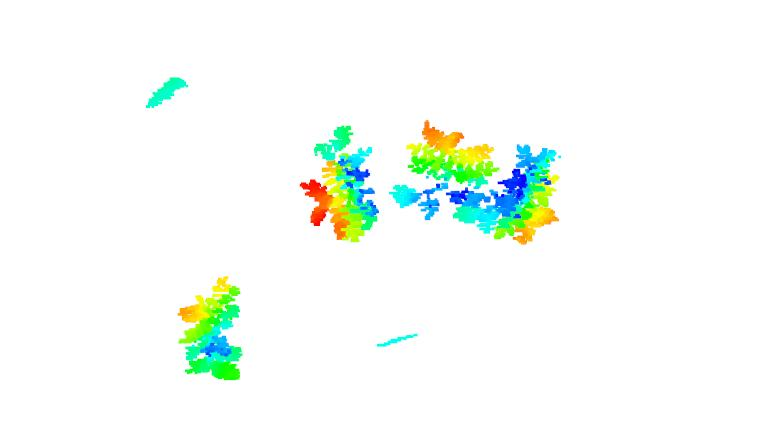chickpea: (393, 119, 498, 230), (298, 123, 383, 244), (485, 142, 564, 244), (178, 275, 245, 380)
